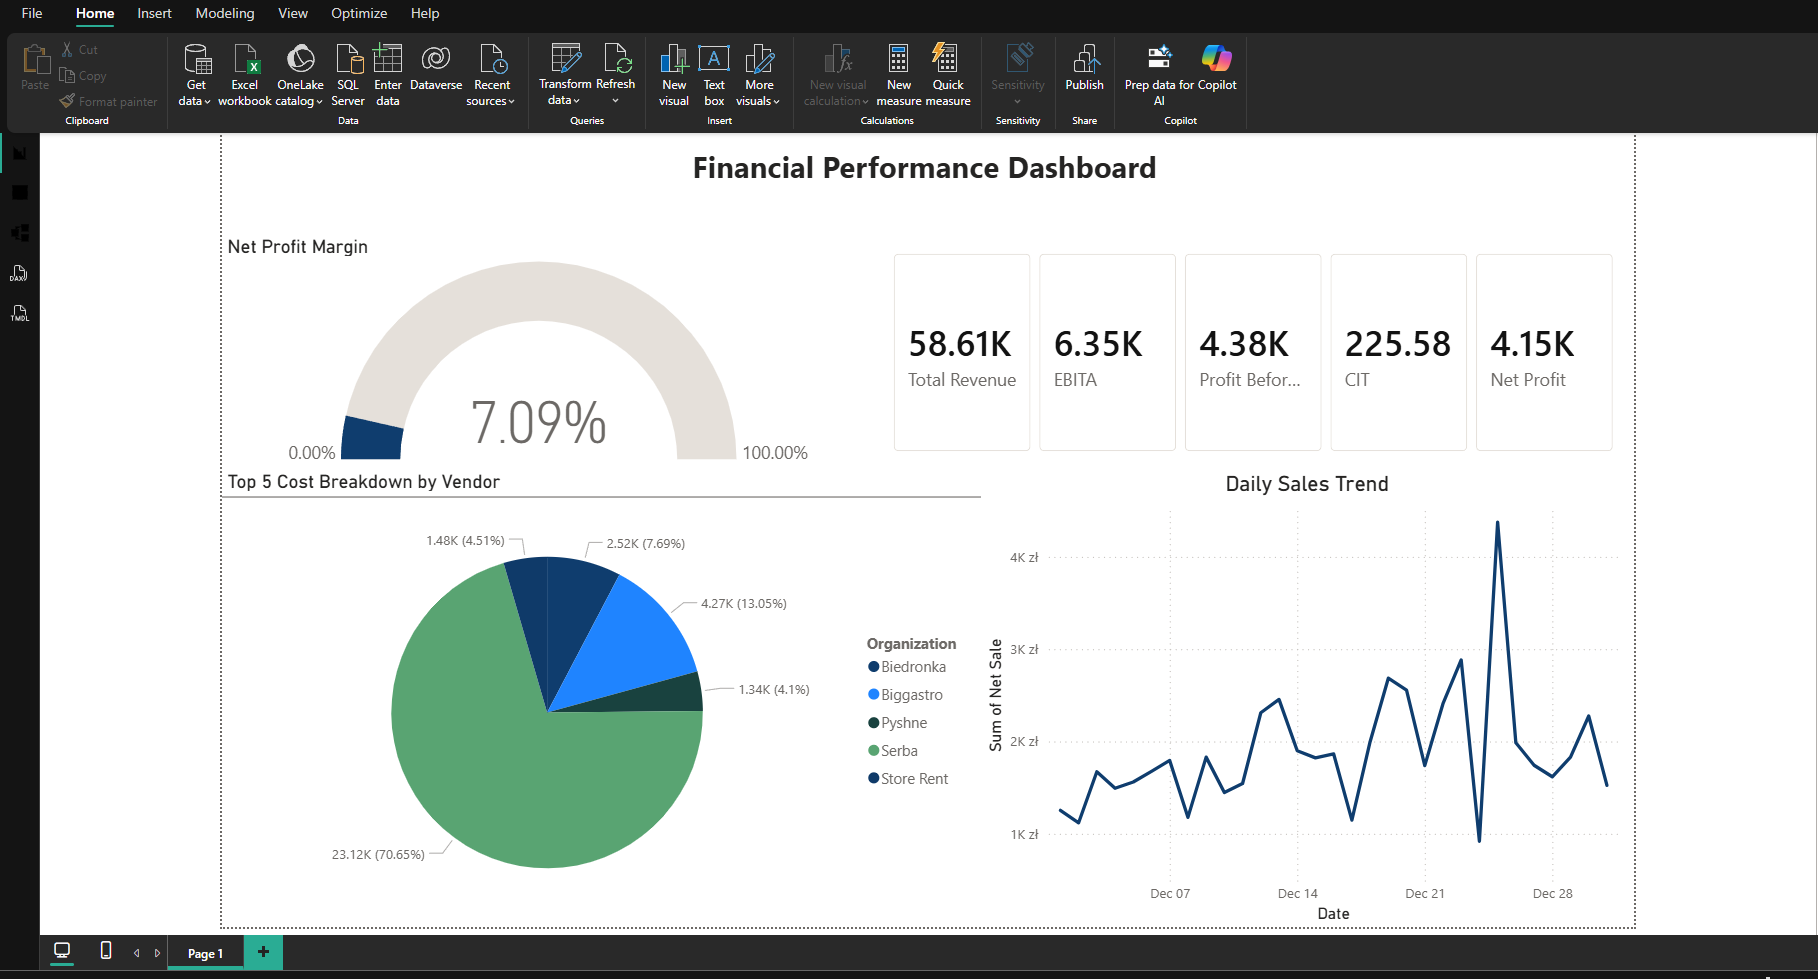

This screenshot's page, from the dashboard's own definition file:
{"tool":"powerbi","page":{"name":"Page 1","canvas":[1280,720],"ordinal":0},"visuals":[{"type":"cardVisual","fields":{"Data":["select","SalesTable.Total Revenue","SalesTable.EBITA","Calendar.Profit Before TAX","Calendar.CIT","SalesTable.Net Profit"]},"box":[592.6,92.8,687.4,213.3],"z":0},{"type":"pieChart","title":"Top 5 Cost Breakdown by Vendor","fields":{"Y":["Sum(CostTable.Net Cost)"],"Series":["CostTable.Organization"]},"box":[0,306,688.6,413.9],"z":1000},{"type":"lineChart","title":"Daily Sales Trend","fields":{"Y":["Sum(SalesTable.Net Sale)"],"Category":["SalesTable.Date"]},"box":[688.4,306.2,591.6,413.8],"z":1001},{"type":"gauge","fields":{"Y":["SalesTable.Net Profit Margin"]},"box":[0,92.8,591.6,213.3],"z":1002},{"type":"textbox","box":[421.7,6.9,435.6,48.4],"z":1003}]}

Visuals, with their boxes on the page's 1280x720 design canvas (x1, y1, x2, y2). These are canvas units, not pixel positions in the 1818x979 screenshot, which may show the page scaled, cropped or inside an application window:
cardVisual - select x SalesTable.Total Revenue: locate(593, 93, 1280, 306)
"Top 5 Cost Breakdown by Vendor" pieChart: locate(0, 306, 689, 720)
"Daily Sales Trend" lineChart: locate(688, 306, 1280, 720)
gauge - SalesTable.Net Profit Margin: locate(0, 93, 592, 306)
textbox: locate(422, 7, 857, 55)
